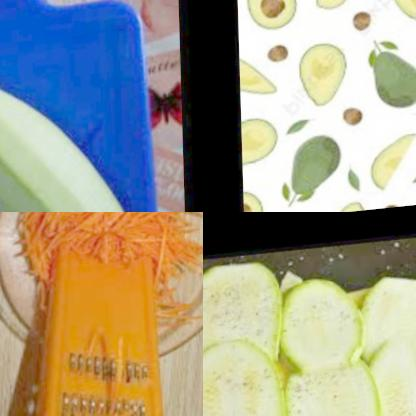avocado: (271, 135, 347, 212), (354, 121, 416, 205), (295, 46, 352, 121), (358, 50, 416, 118), (237, 47, 278, 113), (235, 0, 285, 42), (376, 0, 416, 43), (305, 0, 363, 28), (239, 187, 262, 212)
carrot: (33, 212, 203, 313)
vegetable marrow: (203, 248, 416, 416), (0, 35, 163, 212)
